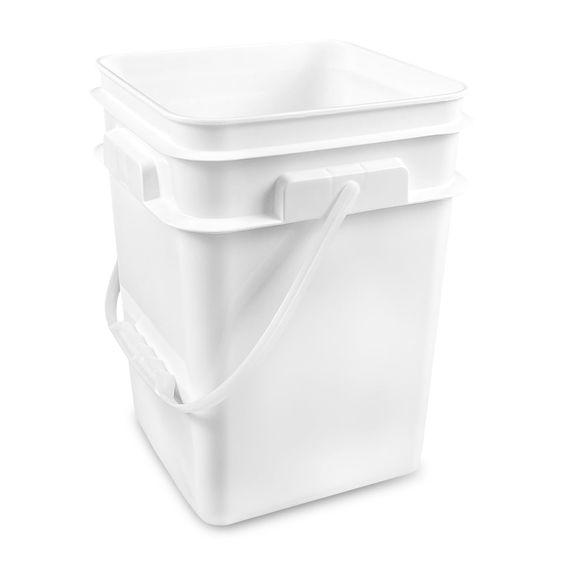HDPE: (7, 0, 525, 564)
